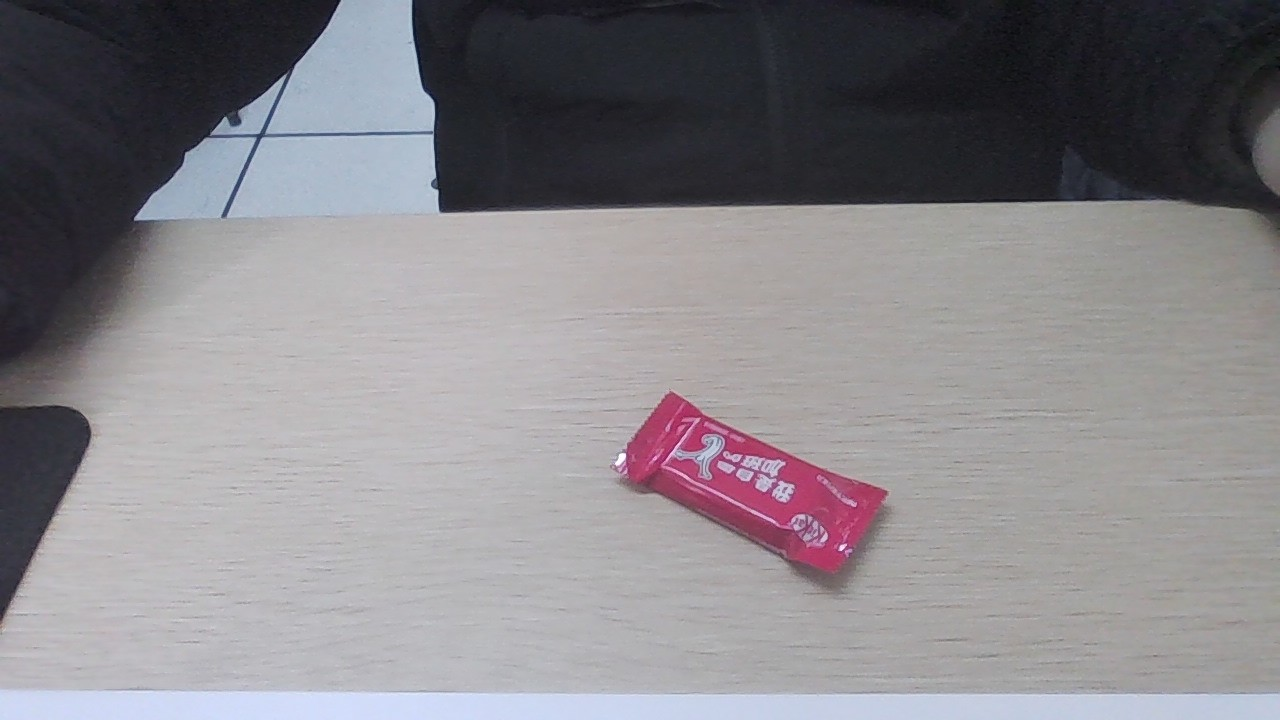CY-chocolate: (620, 393, 882, 568)
